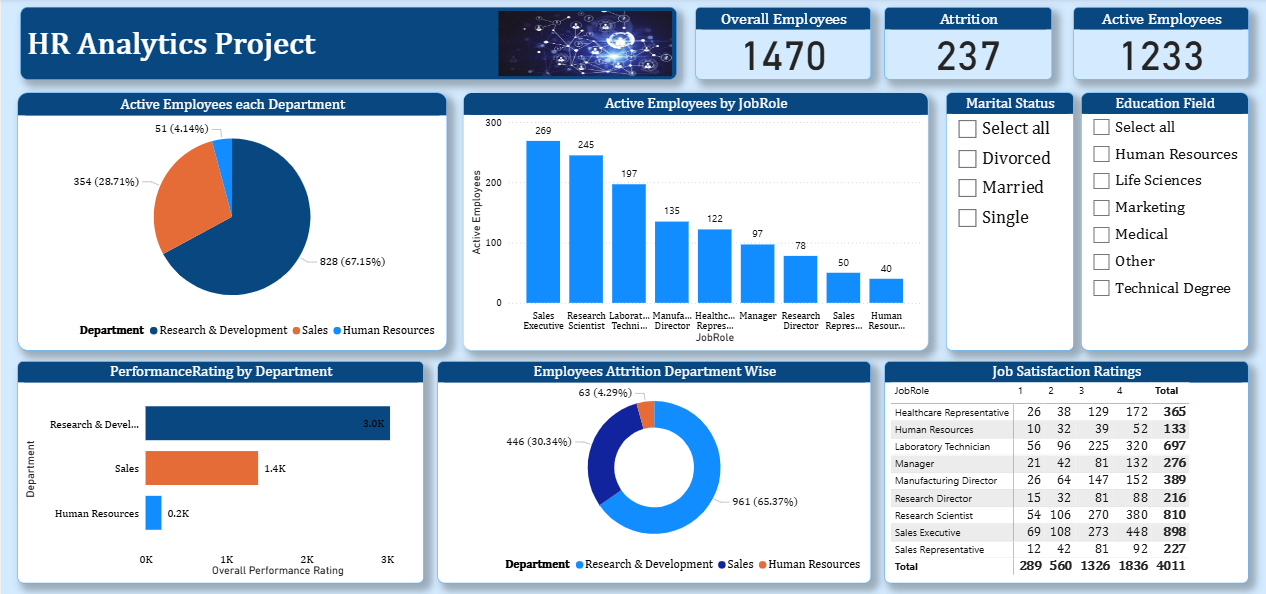

This screenshot's page, from the dashboard's own definition file:
{"tool":"powerbi","page":{"name":"Page 1","canvas":[1700,800],"ordinal":0},"visuals":[{"type":"card","title":"Overall Employees","fields":{"Values":["Sum(HR_Project_Power BI.EmployeeCount)"]},"box":[931.3,12.9,235.6,97.5],"z":0},{"type":"card","title":"Attrition","fields":{"Values":["Sum(HR_Project_Power BI.Attrition Count)"]},"box":[1185.3,12.9,224.5,97.5],"z":1000},{"type":"card","title":"Active Employees","fields":{"Values":["Measure.Active Employees"]},"box":[1437.5,12.9,235.6,97.5],"z":2000},{"type":"pieChart","title":"Active Employees each Department","fields":{"Category":["HR_Project_Power BI.Department"],"Y":["Measure.Active Employees"]},"box":[22.1,127,576.1,346],"z":3000},{"type":"columnChart","fields":{"Y":["Measure.Active Employees"],"Category":["HR_Project_Power BI.JobRole"]},"box":[618.4,127,623.9,346],"z":4000},{"type":"clusteredBarChart","title":" PerformanceRating by Department","fields":{"Category":["HR_Project_Power BI.Department"],"Y":["Sum(HR_Project_Power BI.PerformanceRating)"]},"box":[22.1,485.9,544.8,298.2],"z":5000},{"type":"pivotTable","title":"Job Satisfaction Ratings","fields":{"Rows":["HR_Project_Power BI.JobRole"],"Columns":["HR_Project_Power BI.JobSatisfaction"],"Values":["Sum(HR_Project_Power BI.JobSatisfaction)"]},"box":[1185.3,485.9,487.7,298.2],"z":6000},{"type":"donutChart","title":" Employees  Attrition Department Wise","fields":{"Y":["CountNonNull(HR_Project_Power BI.Attrition)"],"Category":["HR_Project_Power BI.Department"]},"box":[585.3,485.9,581.6,298.2],"z":7000},{"type":"slicer","title":"Marital Status","fields":{"Values":["HR_Project_Power BI.MaritalStatus"]},"box":[1266.3,127,171.2,346],"z":8000},{"type":"slicer","title":"Education Field","fields":{"Values":["HR_Project_Power BI.EducationField"]},"box":[1448.5,127,224.5,346],"z":9000},{"type":"textbox","box":[25.8,12.9,879.8,97.5],"z":10000},{"type":"image","box":[662.6,12.9,243,97.5],"z":11000}]}

Visuals, with their boxes in screenshot pixels (x1, y1, x2, y2), scaled from the page's 1700x800 canvas onto the 1266x594 screenshot:
"Overall Employees" card: [694,10,869,82]
"Attrition" card: [883,10,1050,82]
"Active Employees" card: [1071,10,1246,82]
"Active Employees each Department" pieChart: [16,94,445,351]
columnChart - Measure.Active Employees x HR_Project_Power BI.JobRole: [461,94,925,351]
" PerformanceRating by Department" clusteredBarChart: [16,361,422,582]
"Job Satisfaction Ratings" pivotTable: [883,361,1246,582]
" Employees  Attrition Department Wise" donutChart: [436,361,869,582]
"Marital Status" slicer: [943,94,1071,351]
"Education Field" slicer: [1079,94,1246,351]
textbox: [19,10,674,82]
image: [493,10,674,82]
